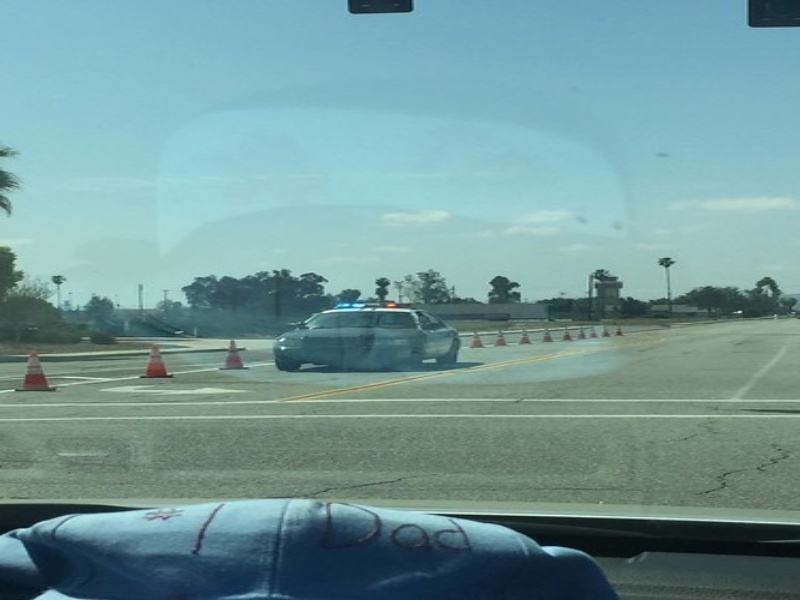policecar: (268, 256, 462, 382)
